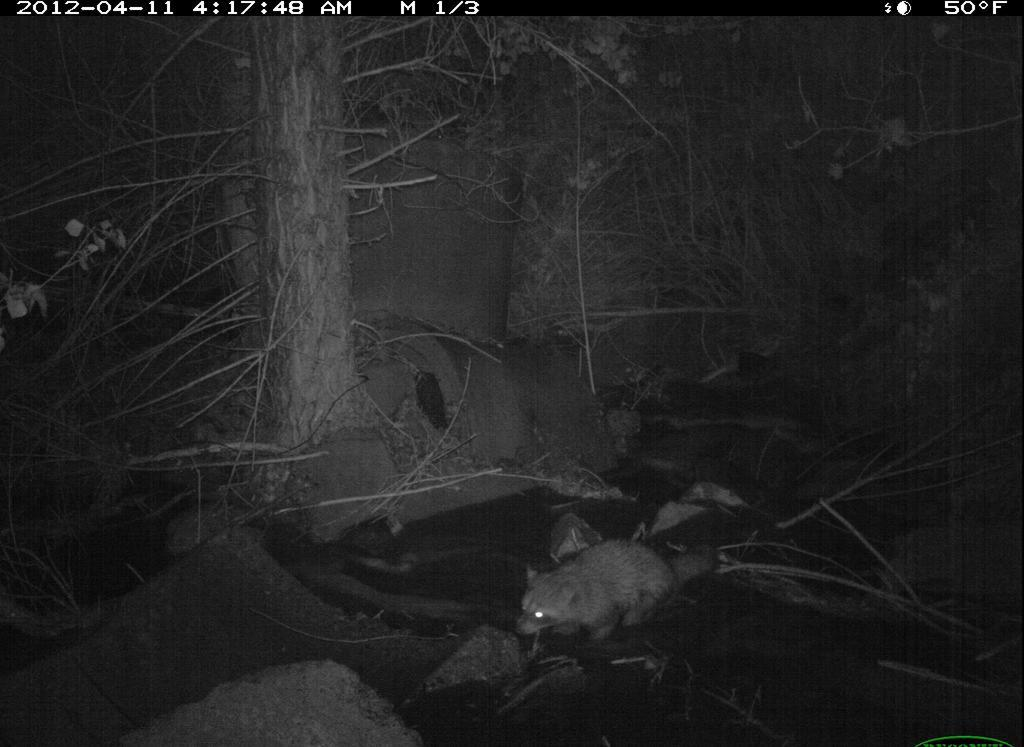raccoon: (505, 530, 729, 675)
